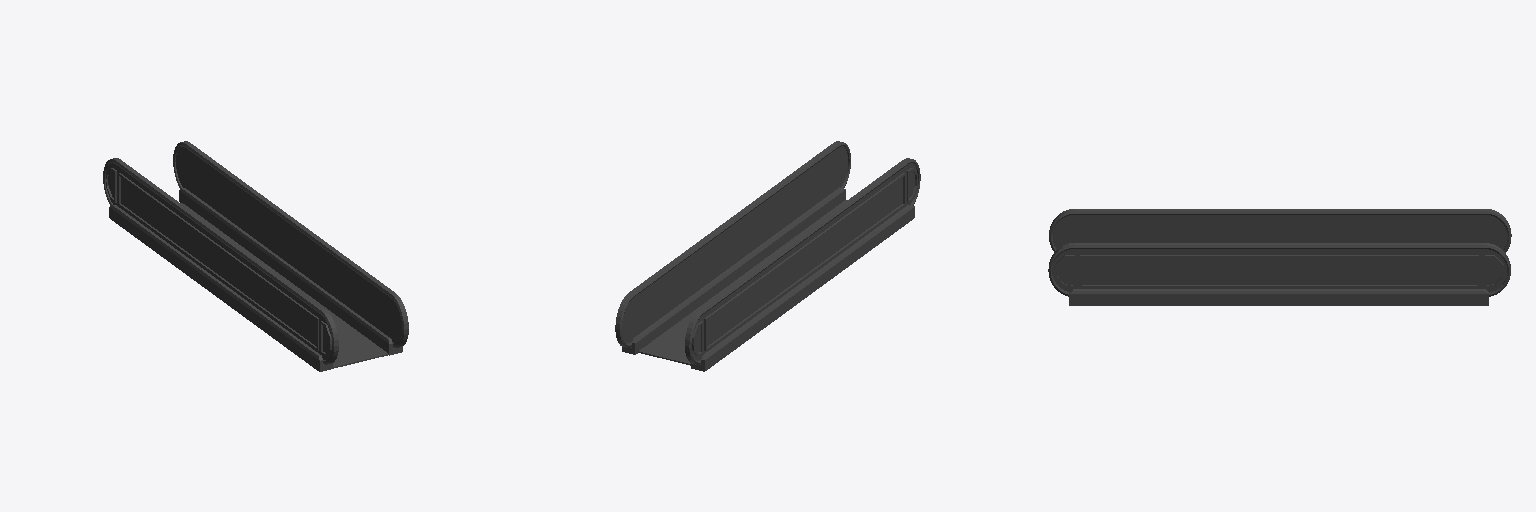
File: cinta.obj
3 views of the same model, side by side, from view 1: azimuth 30°, elevation 25°; view 2: azimuth 150°, elevation 25°; view 3: azimuth 270°, elevation 25° (orthographic).
Visible parts, largest first — view 1: cinta; view 2: cinta; view 3: cinta.
Part boxes in pixels (x1,y1,x2,y2): cinta: (103, 141, 408, 371); cinta: (615, 141, 920, 371); cinta: (1048, 209, 1511, 305).
Bounding box in the file's own units: 0.4724 × 0.3155 × 2.27.